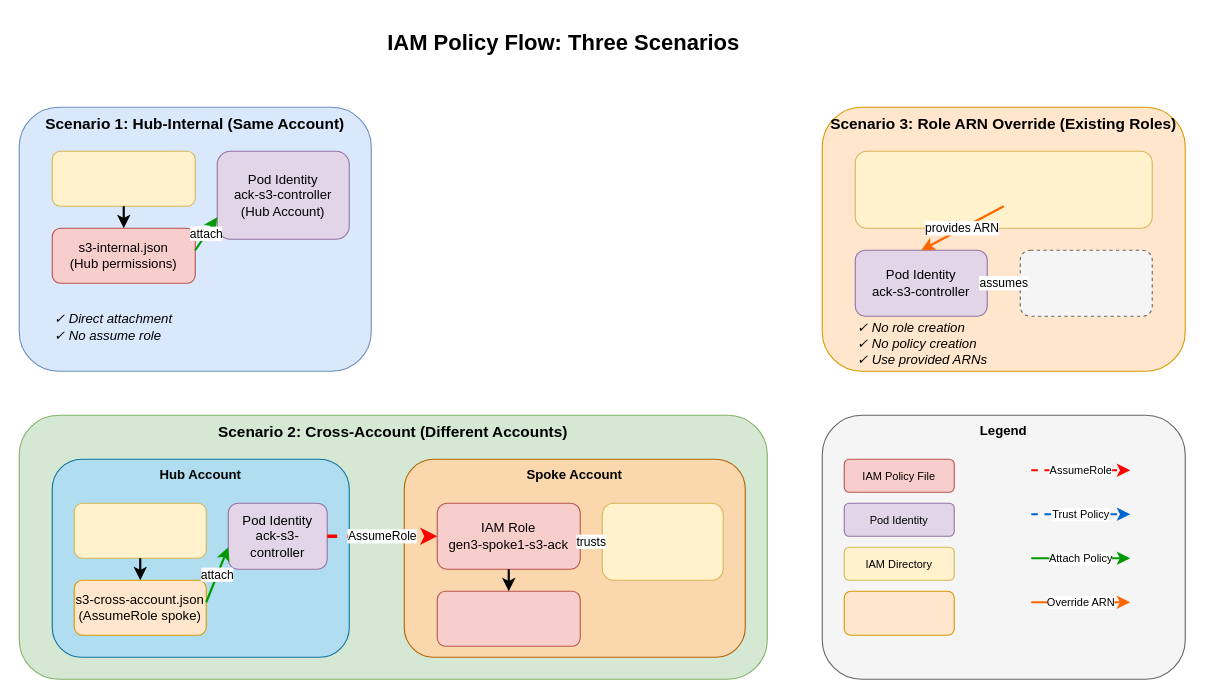
This 1205x699 diagram has some shape labels left out. Here are the shapes that lost their labels. From the top down, the centre of each, then its label:
point (123, 178): iam/gen3/hub/ acks/s3/
point (1003, 189): spoke_role_arns = { s3 = "arn:aws:iam::..." dynamodb = "arn:..." }
point (1085, 282): External Role (Pre-existing)
point (139, 530): iam/gen3/spoke1/ acks/s3/
point (662, 541): Trust Policy: arn:aws:iam::HUB:role/... (Hub pod identity)
point (508, 618): s3-internal.json (Spoke S3 permissions)
point (898, 612): Cross-Account Policy
